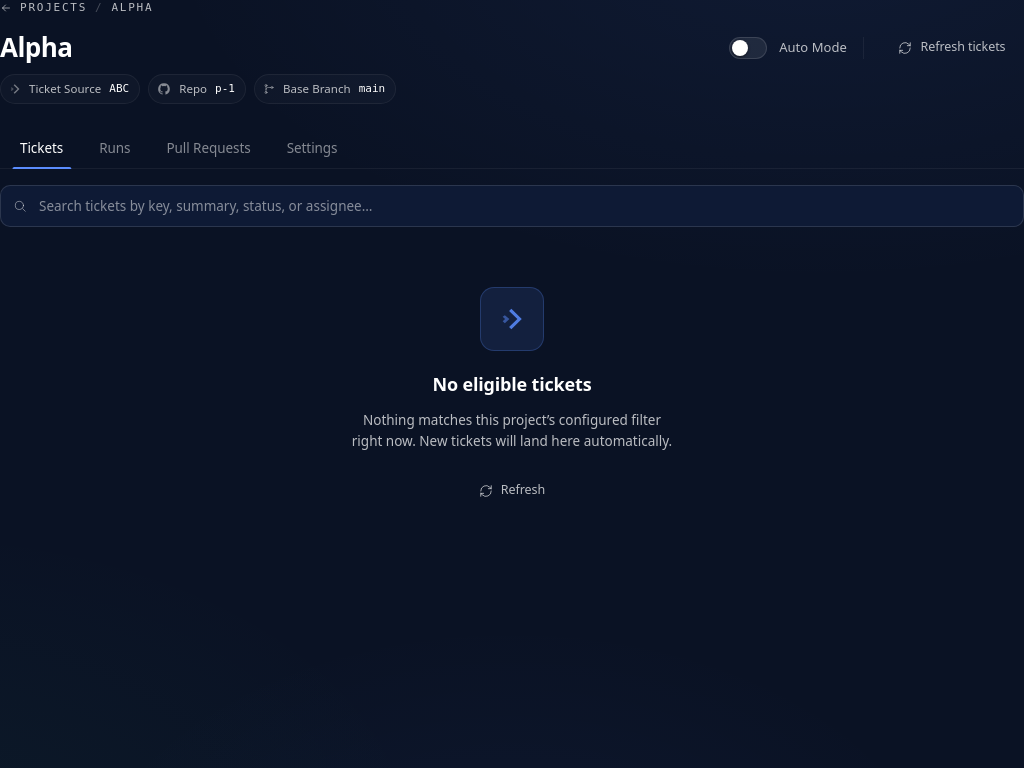
Test: <ProjectDetail> PRs tab — #GH-67 › PRS-013: clicking a filter chip toggles row visibility
The image size is (1024, 768).
Click the tab "Pull Requests" at (209, 148), box [150,128,267,168]
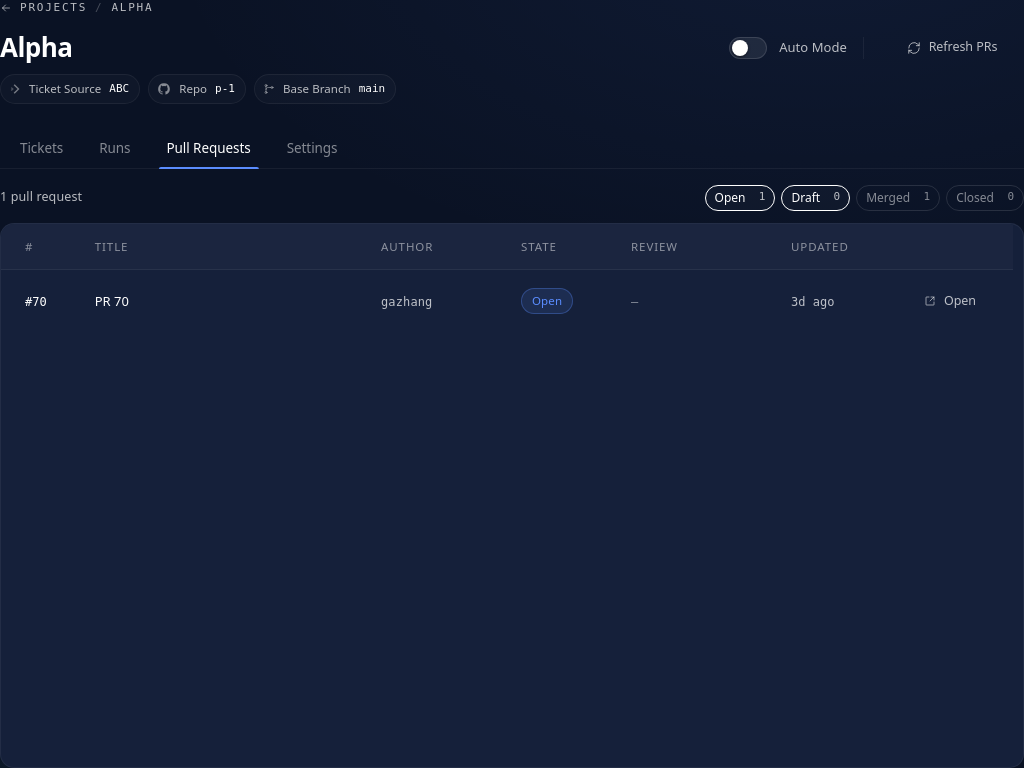
Click the button with test id "pulls-filter-merged" at (898, 198), box [856,185,940,211]
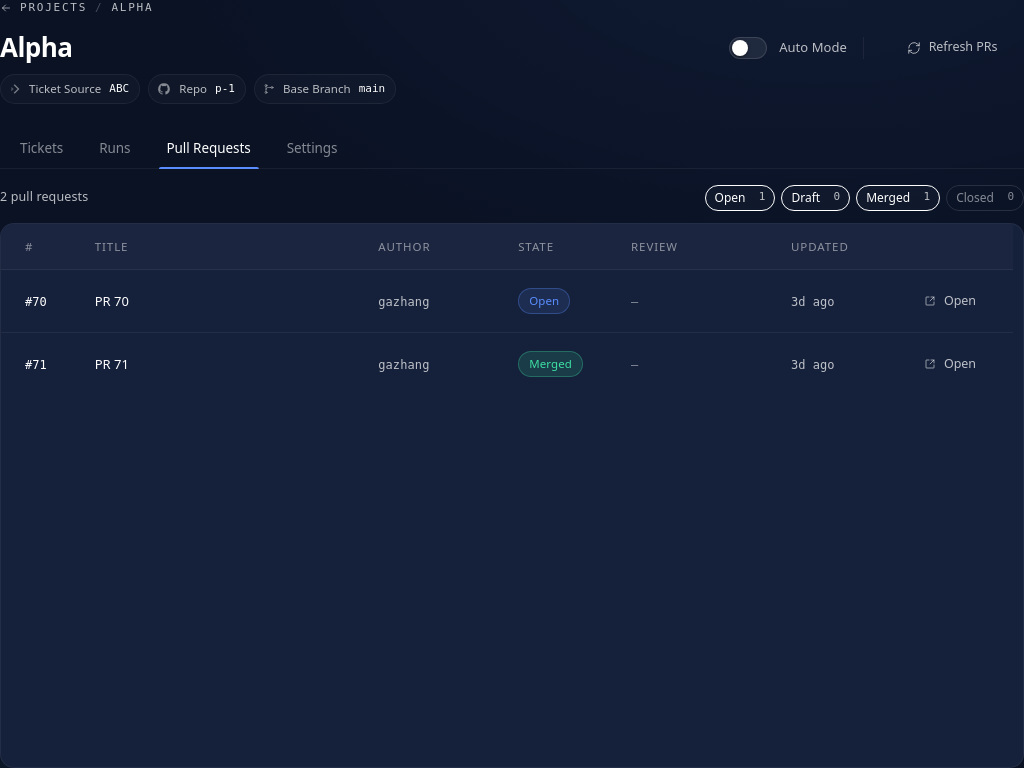
Check: the row with test id "pull-row-71" is shown, box [1,333,1013,395]
Click the button with test id "pulls-filter-open" at (740, 198), box [704,185,775,211]
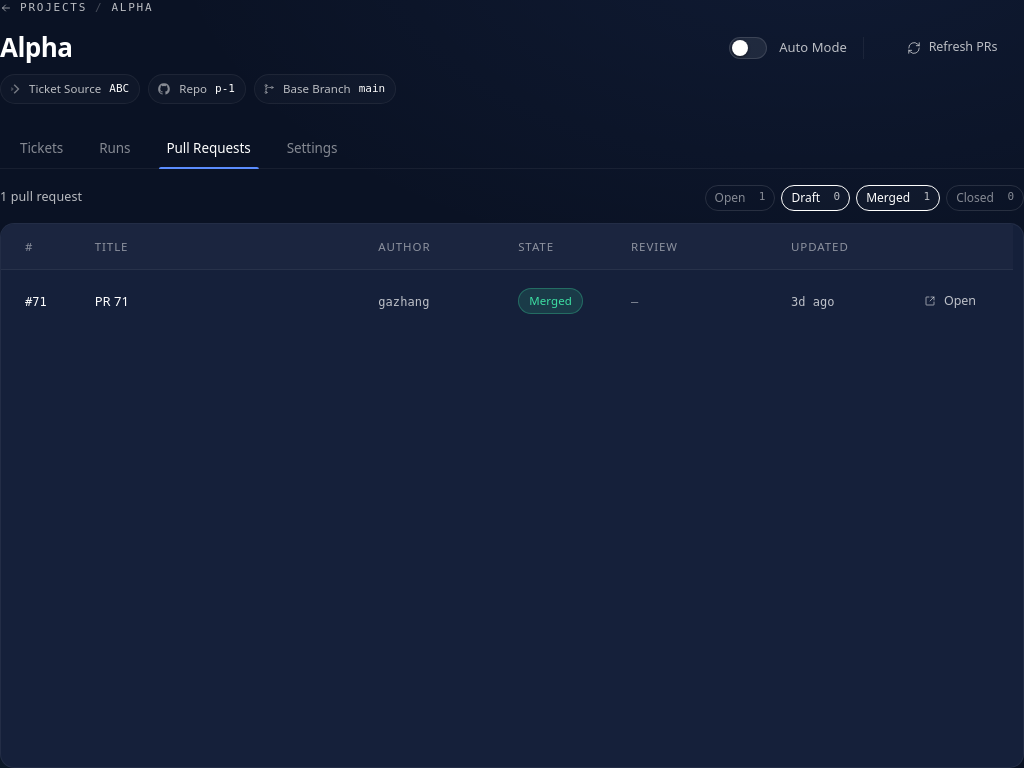
Check: the row with test id "pull-row-71" is shown, box [1,270,1013,332]
Check: the row with test id "pull-row-70" is gone
